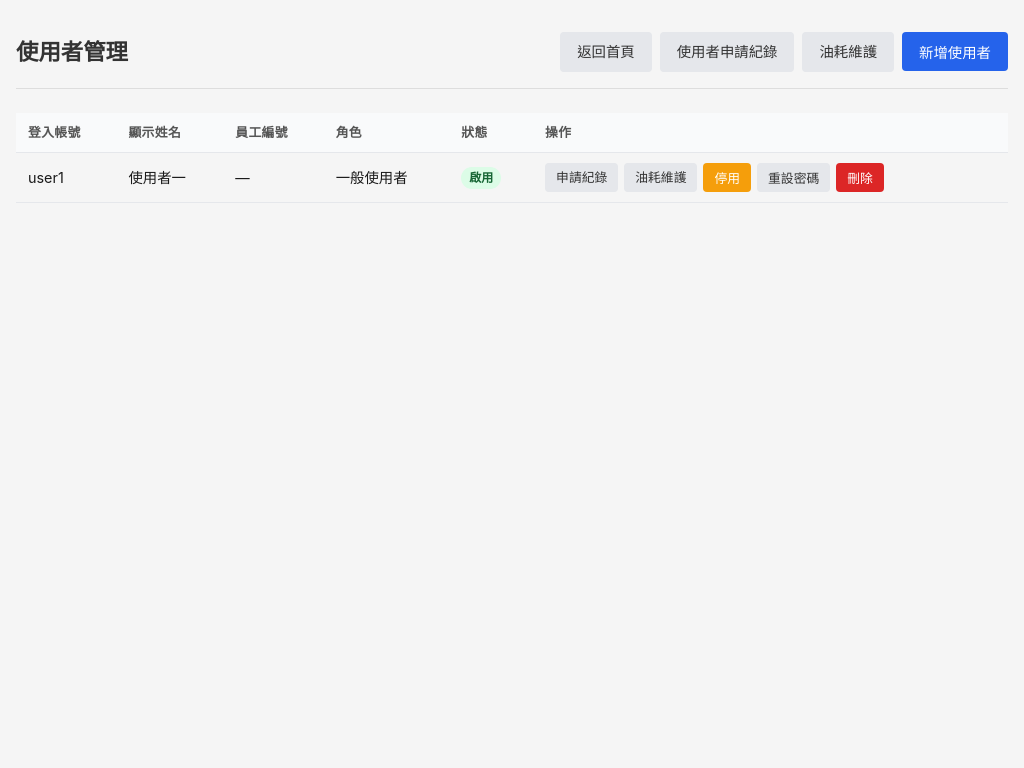
it: AdminUsersPage › 新增使用者成功 → 顯示「已建立」提示並刷新清單
Expected: the text "user1" is shown, [16, 152, 116, 203]
# Open add dialog
Click the button "新增使用者". click: (955, 52)
box: [902, 32, 1008, 71]
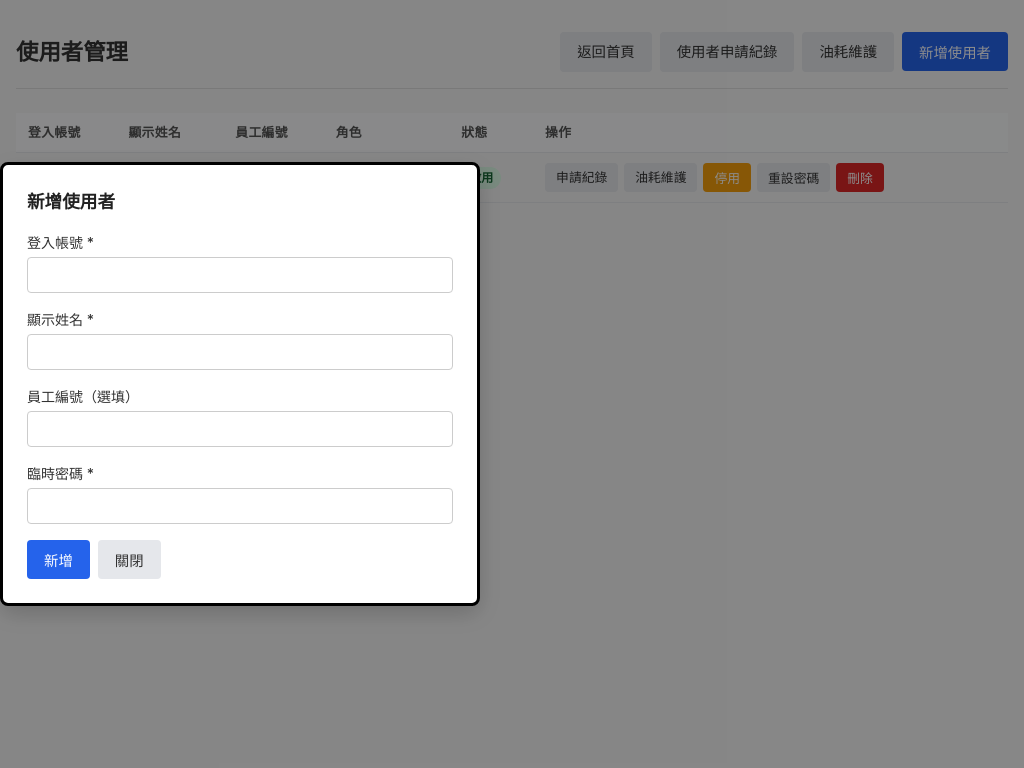
Now the field labelled "登入帳號 *" is shown
# Fill form
Type "newuser" into the field labelled "登入帳號 *". click: (240, 275)
box: [27, 257, 453, 293]
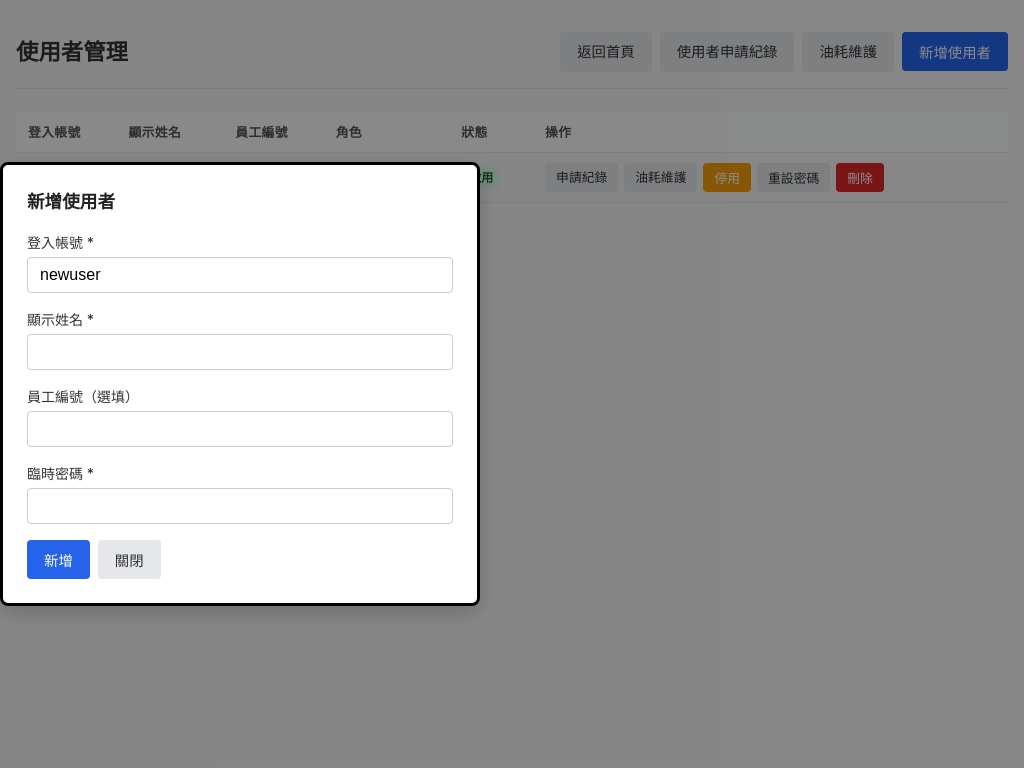
Type "新使用者" into the field labelled "顯示姓名 *". click: (240, 352)
box: [27, 334, 453, 370]
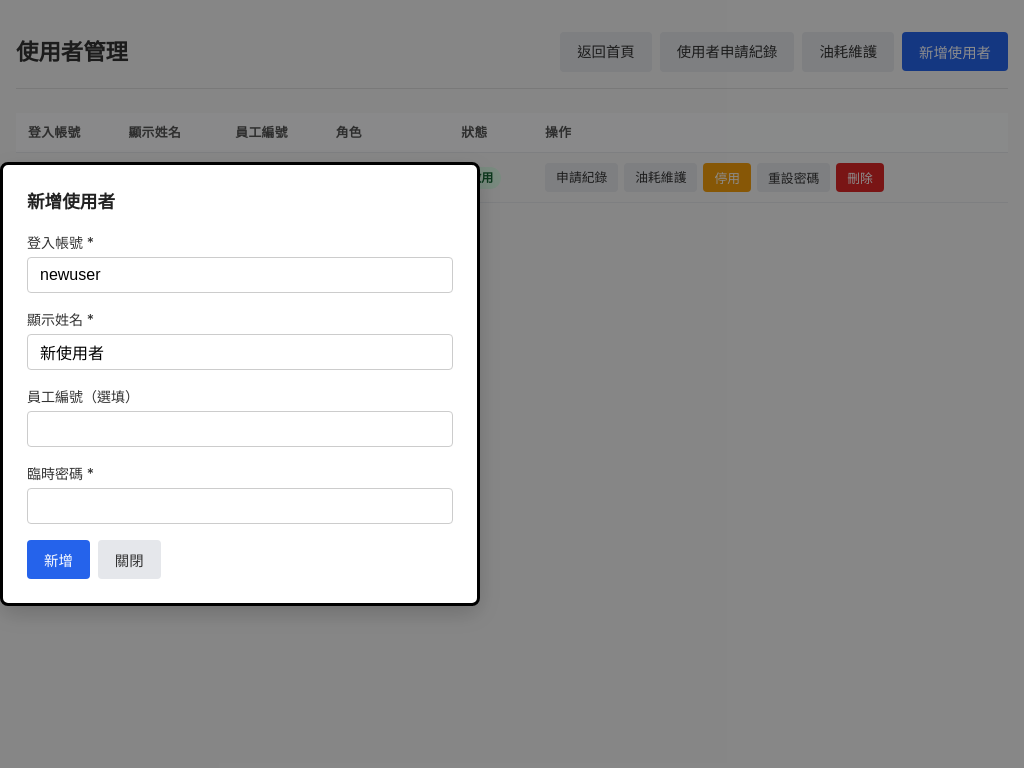
Type "TempPass1234" into the password field labelled "臨時密碼 *". click: (240, 506)
box: [27, 488, 453, 524]
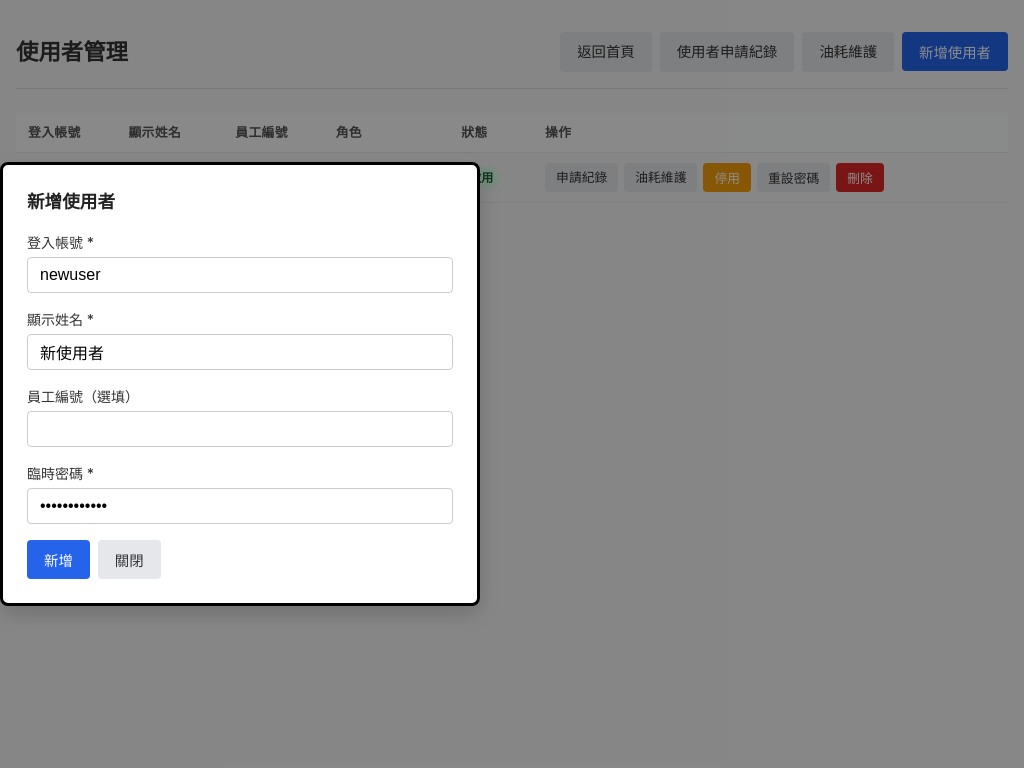
Click the button "新增". click: (58, 559)
box: [27, 540, 90, 579]
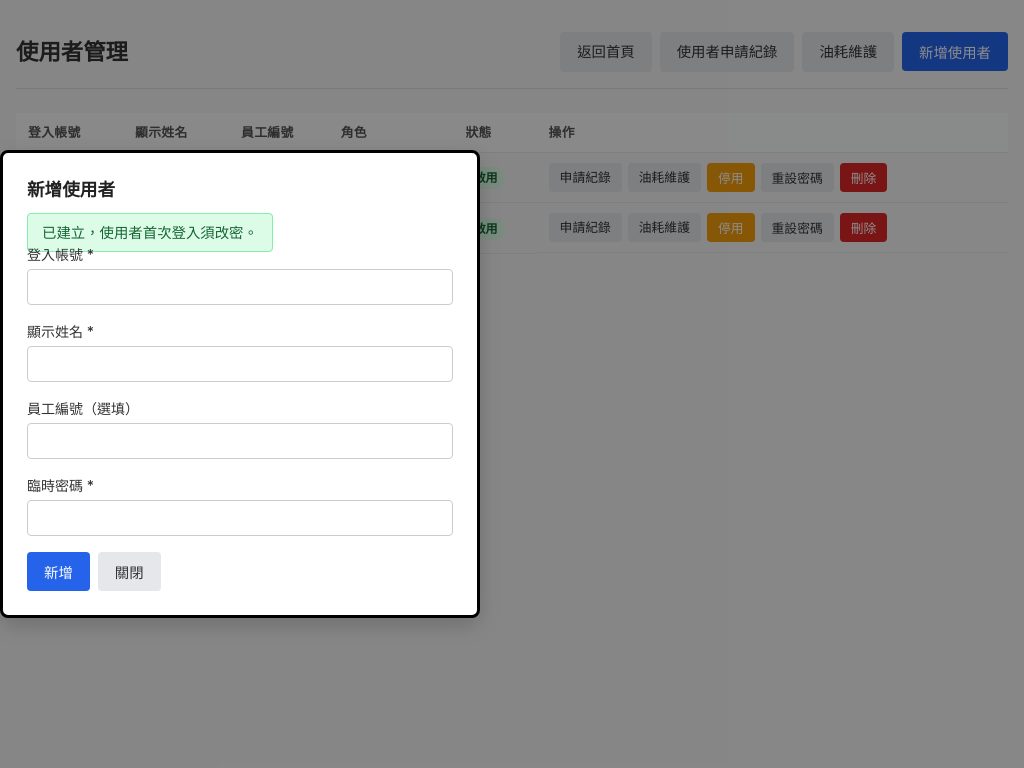
Now the text "已建立，使用者首次登入須改密。" is shown, box [27, 213, 273, 252]
